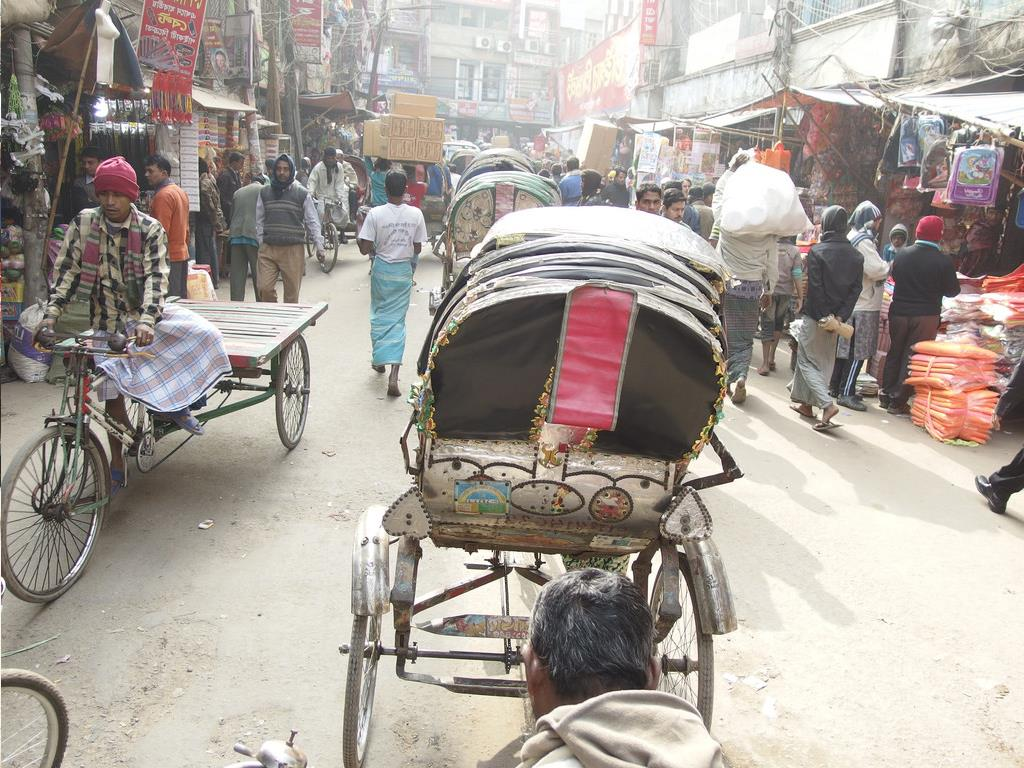Rickshaw: (375, 171, 744, 730), (478, 186, 736, 723), (443, 164, 561, 320), (292, 138, 379, 275), (371, 146, 463, 260), (457, 135, 544, 200)
